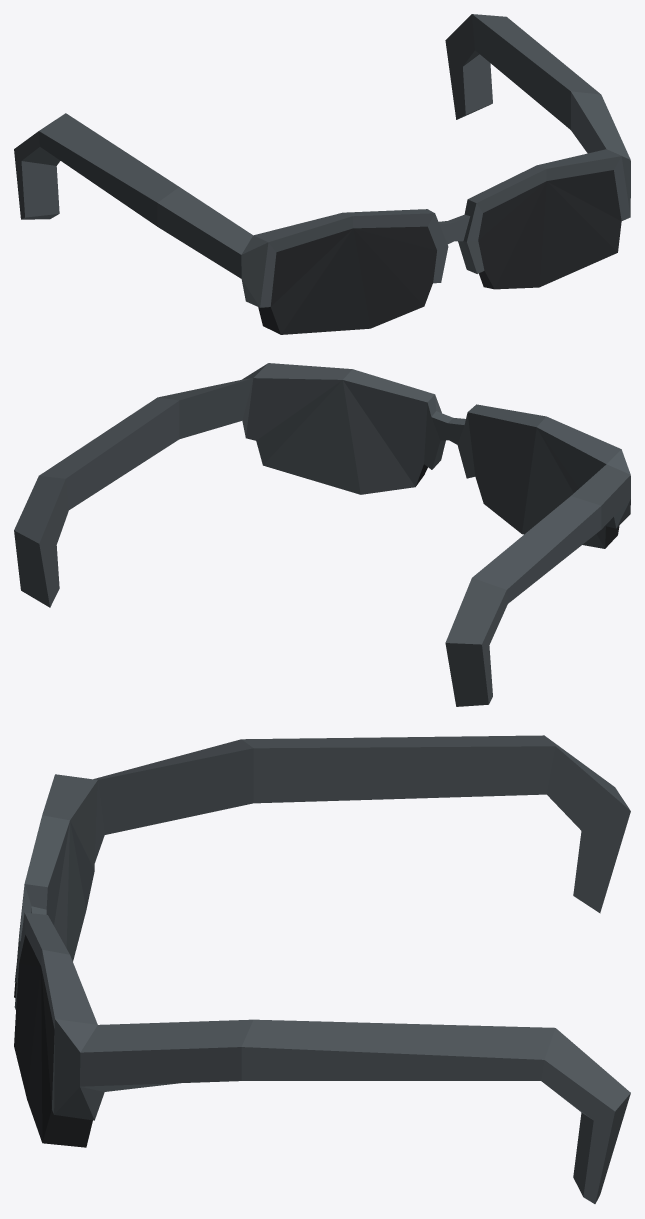
File: SM_Item_SunGlasses_01.fbx
3 renders of one model, top to bottom at view 1: azimuth 30°, elevation 25°; view 2: azimuth 150°, elevation 25°; view 3: azimuth 270°, elevation 25°, orthographic. The views are drawn at different scales.
Visible parts, largest first — view 1: SM_Item_SunGlasses_01; view 2: SM_Item_SunGlasses_01; view 3: SM_Item_SunGlasses_01.
Boxes of the visible parts, left/top/right/bottom form: SM_Item_SunGlasses_01: left=14, top=14, right=630, bottom=334; SM_Item_SunGlasses_01: left=14, top=363, right=630, bottom=706; SM_Item_SunGlasses_01: left=14, top=735, right=630, bottom=1203.
Size of the model in its own units: 24.5 by 6.05 by 19.69.
